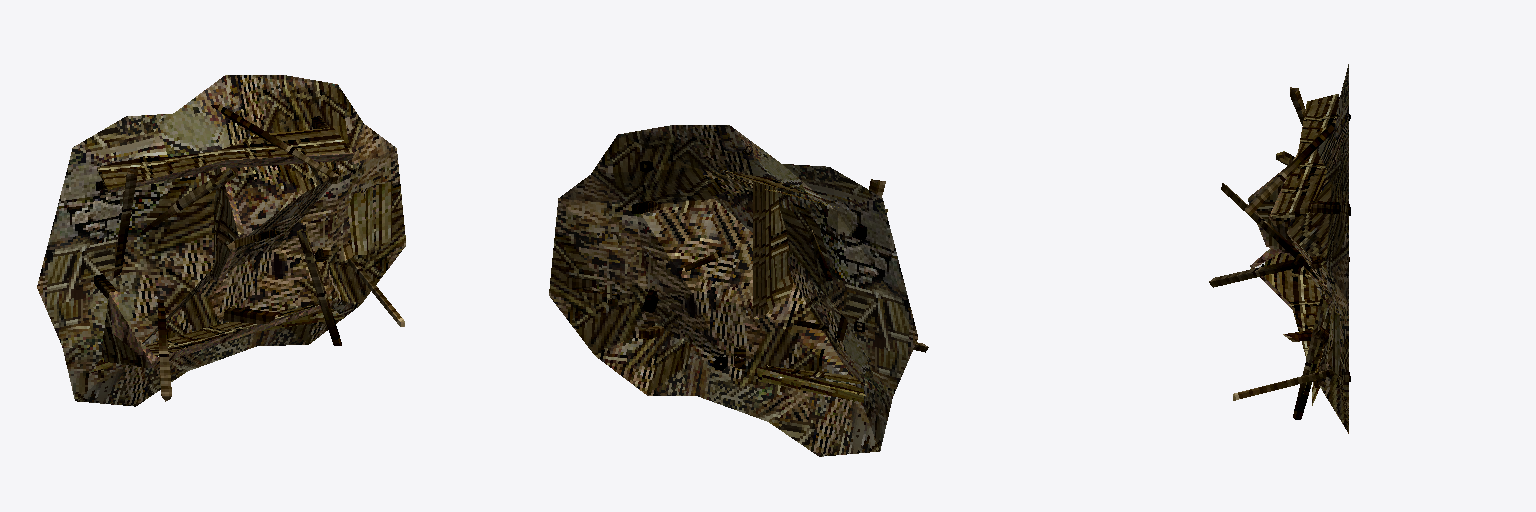
The picture shows the model from 3 angles: view 1: azimuth 30°, elevation 25°; view 2: azimuth 150°, elevation 25°; view 3: azimuth 270°, elevation 25°; orthographic projection.
Visible parts, largest first — view 1: model; view 2: model; view 3: model.
Boxes of the visible parts, x1=… form: model: x1=37, y1=75, x2=405, y2=406; model: x1=549, y1=125, x2=928, y2=456; model: x1=1209, y1=64, x2=1350, y2=433.
Bounding box in the file's own units: 11.83 × 9.47 × 3.97.
Materials: 1 (1 with a texture image).